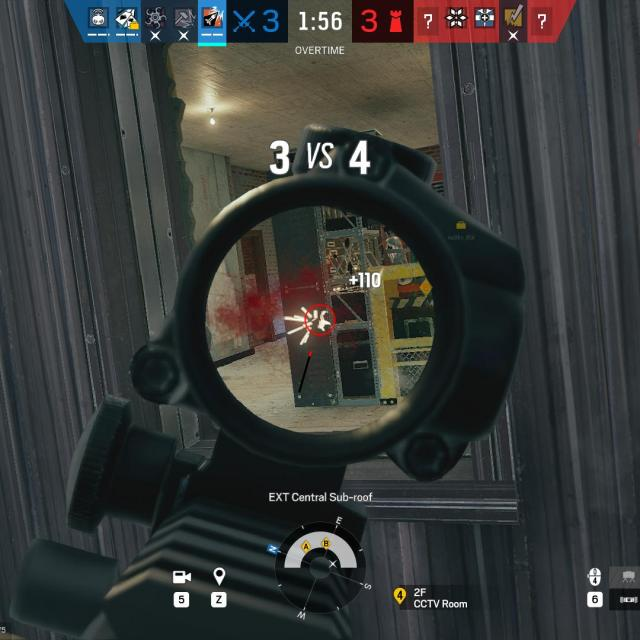Friend_label: (448, 219, 478, 242)
